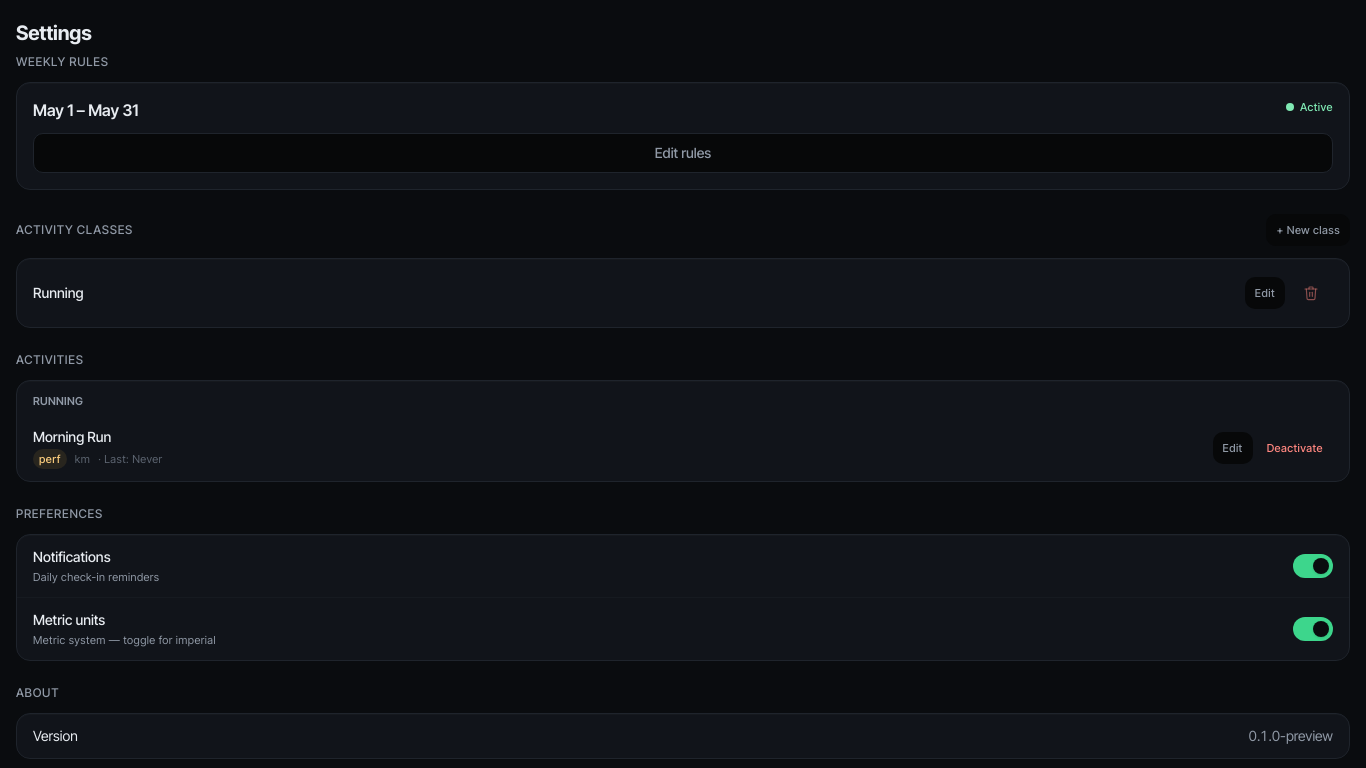
Scenario: SettingsScreen — stack action callbacks › opens the edit activity modal when Edit is clicked
Click the button with aria-label "edit morning run": coordinates (1233, 448) left=1212, top=432, right=1253, bottom=464
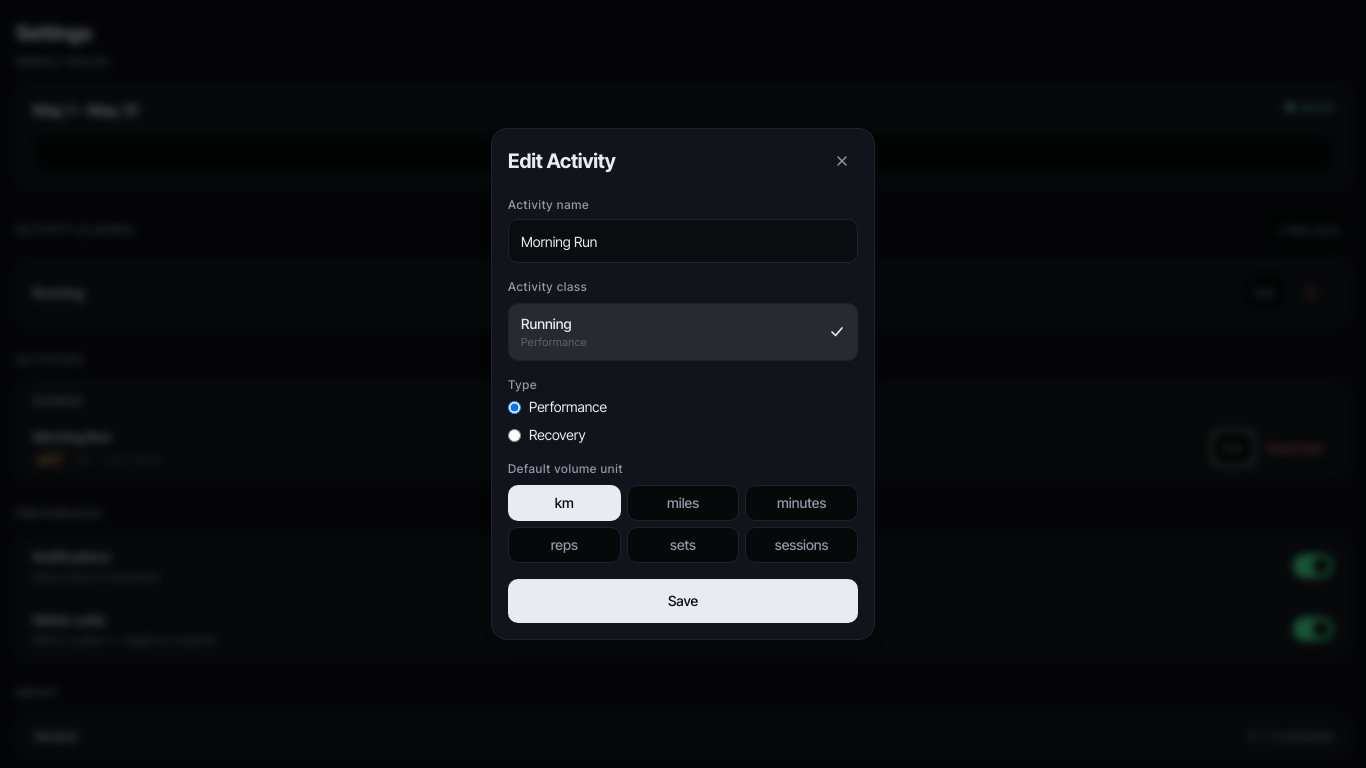
Expected: the dialog "Edit Activity" is shown, left=491, top=128, right=875, bottom=640
